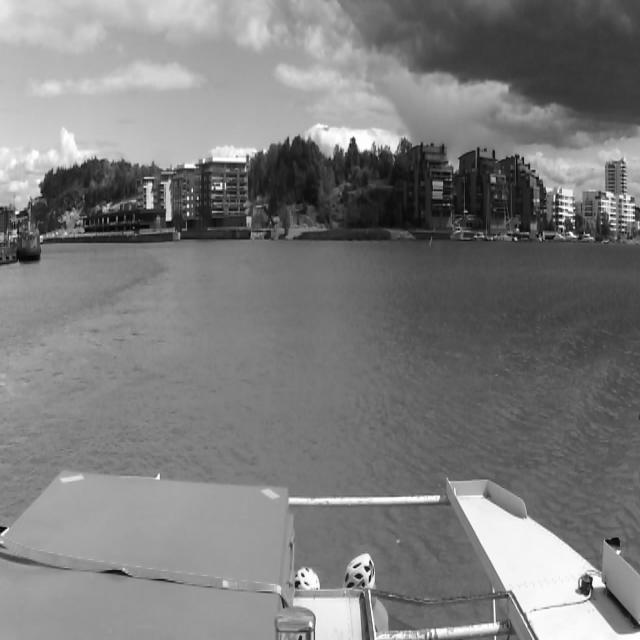ship: (18, 229, 40, 263), (502, 228, 518, 244), (450, 226, 465, 242), (556, 224, 564, 242), (567, 229, 578, 242), (474, 231, 486, 242), (583, 233, 595, 244)
